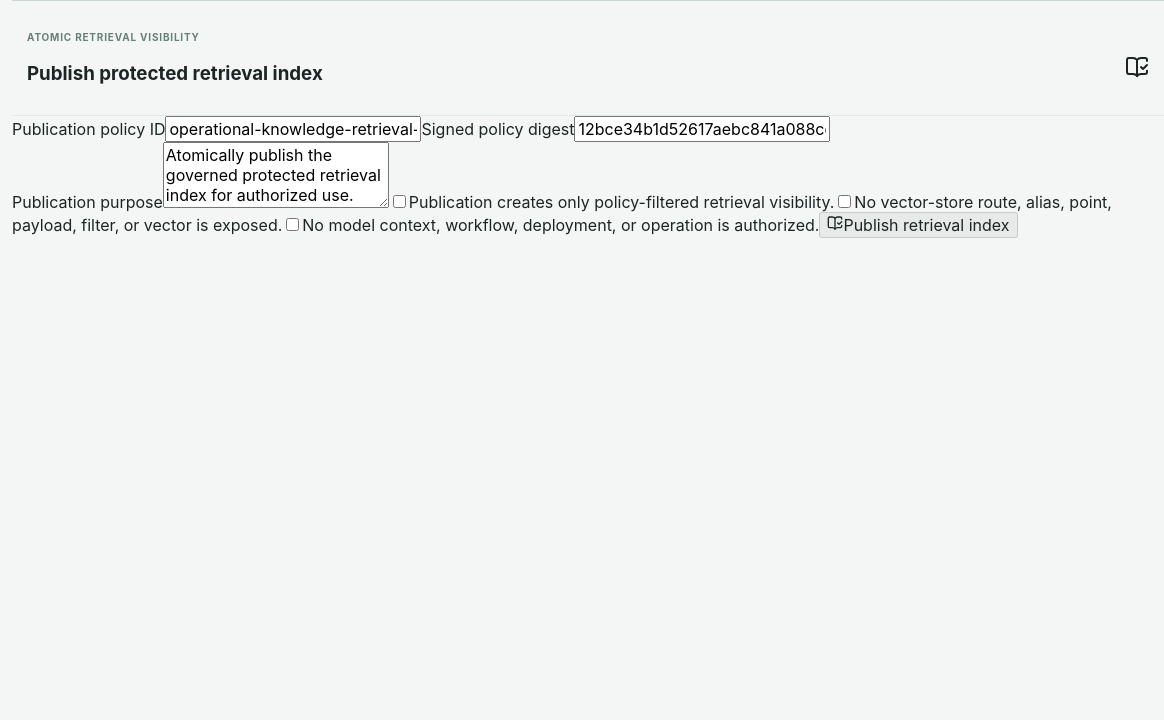
Scenario: RetrievalIndexPublicationPanel › creates only a minimized atomic retrieval-publication receipt
Expected: the button "Publish retrieval index" is disabled, [819,212,1018,238]
Click the checkbox labelled "Publication creates only policy-filtered retrieval visibility." at (399, 202), box [393,195,406,208]
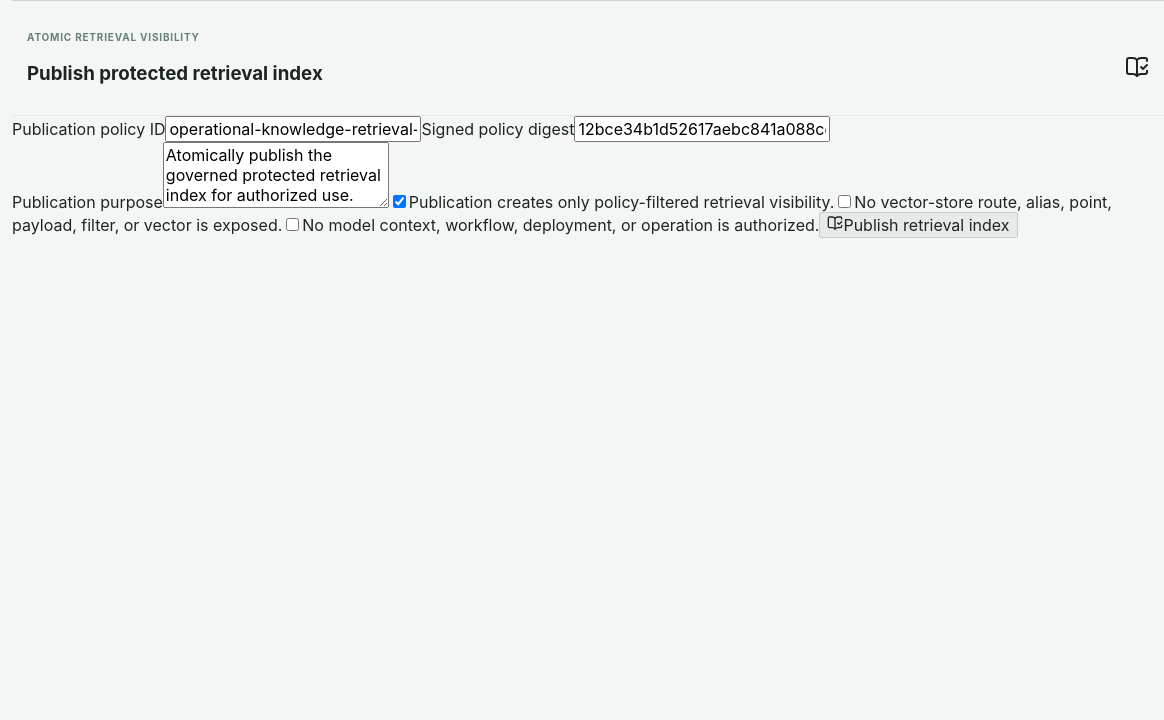
Click the checkbox labelled "No vector-store route, alias, point, payload, filter, or vector is exposed." at (845, 202), box [838,195,851,208]
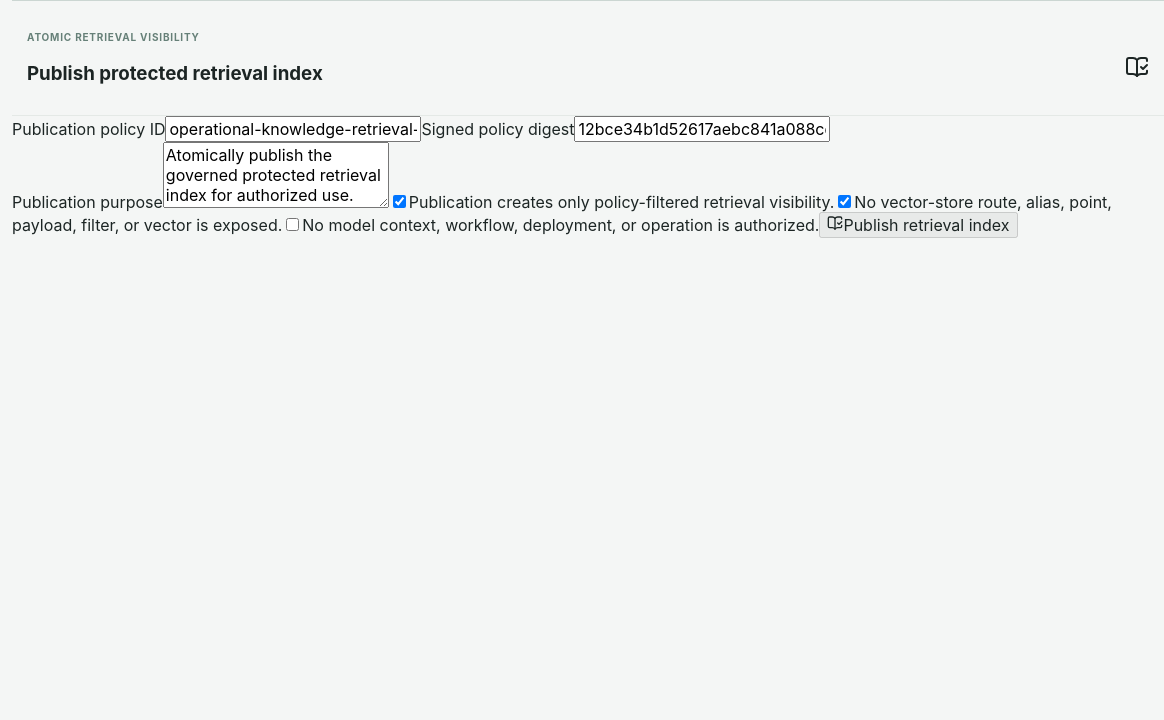
Click the checkbox labelled "No model context, workflow, deployment, or operation is authorized." at (293, 225), box [286,218,299,231]
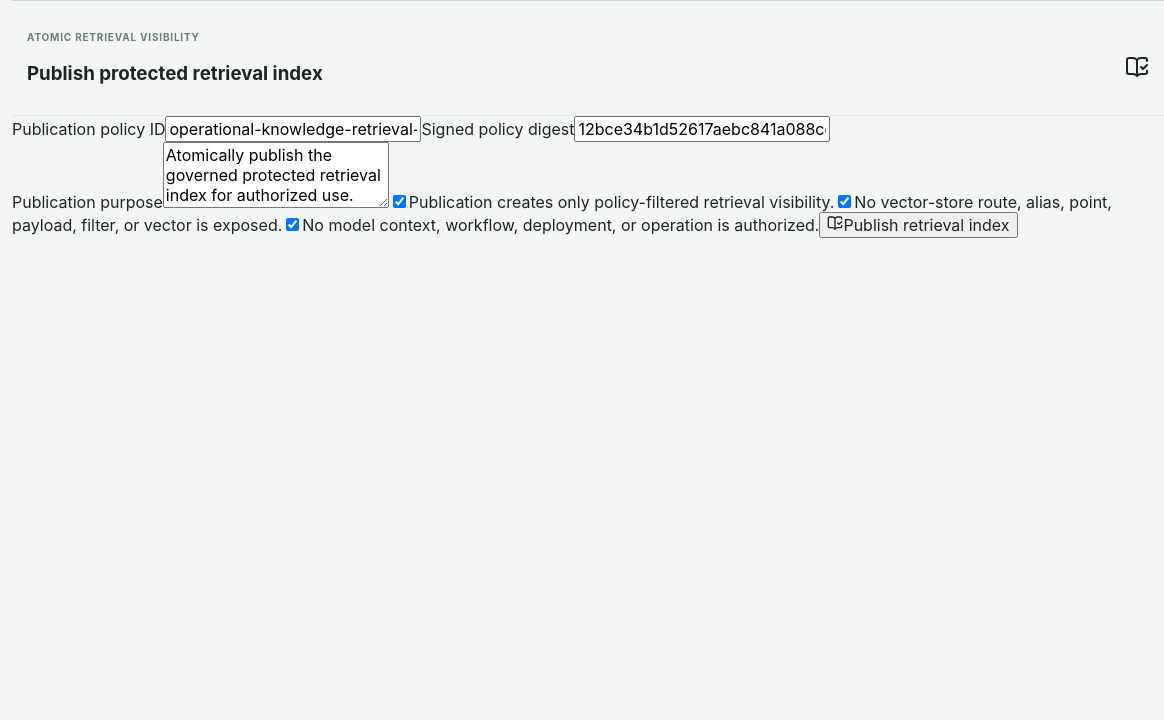
Expected: the button "Publish retrieval index" is enabled
Click the button "Publish retrieval index" at (918, 225), box [819,212,1018,238]
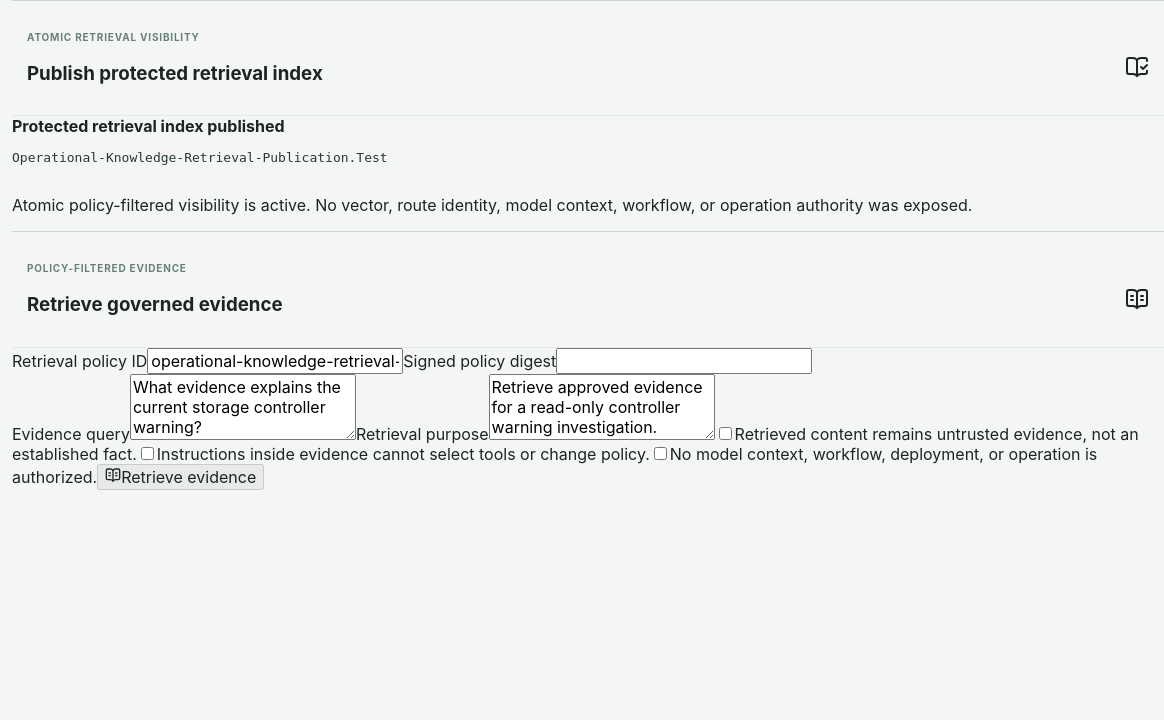
Expected: the text "Protected retrieval index published" is shown, [12,116,285,136]
Expected: the text "Atomic policy-filtered visibility is active" is shown, [12,195,972,215]
